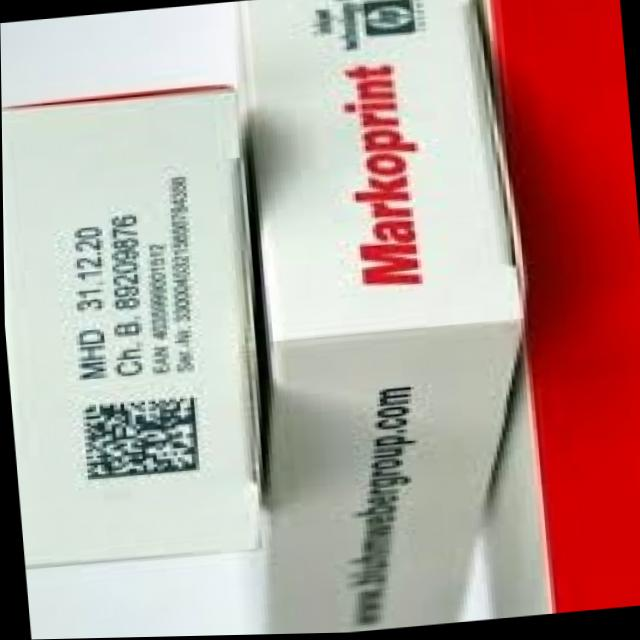datamatrix: (63, 385, 217, 491)
